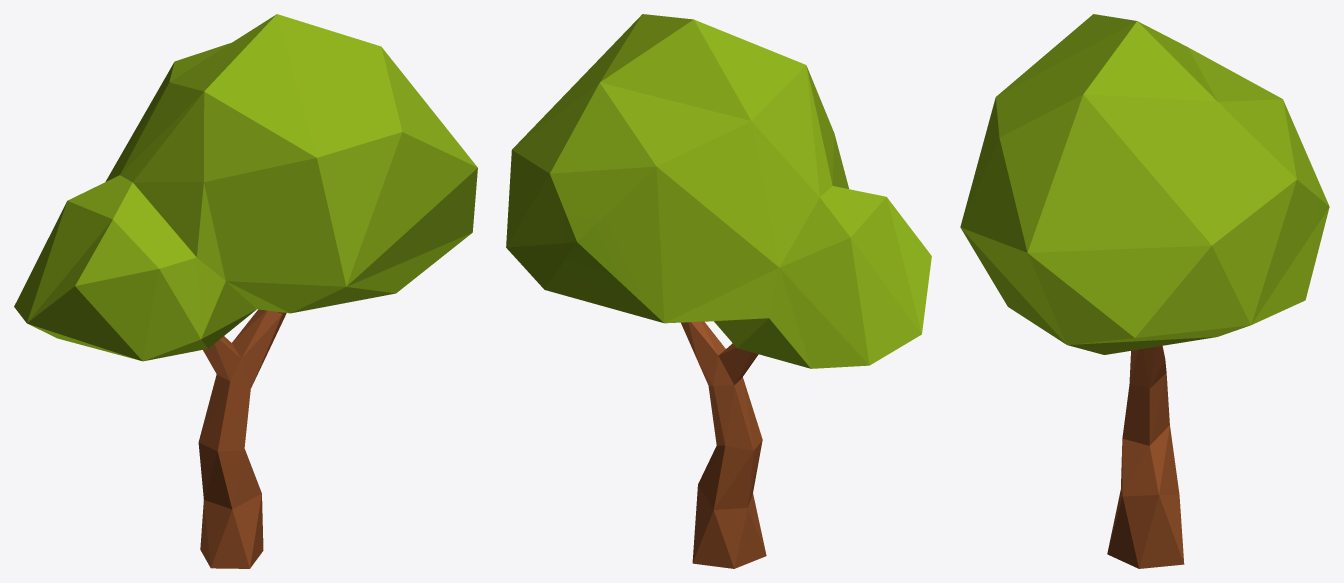
Rendered from tree_02.FBX.
3 views of the same model, side by side, from view 1: azimuth 30°, elevation 25°; view 2: azimuth 150°, elevation 25°; view 3: azimuth 270°, elevation 25° (orthographic). The views are drawn at different scales.
Parts seen in each view (by area): view 1: drzewo_02; view 2: drzewo_02; view 3: drzewo_02.
Boxes of the visible parts, x1=… form: drzewo_02: x1=14, y1=14, x2=477, y2=568; drzewo_02: x1=506, y1=14, x2=931, y2=568; drzewo_02: x1=960, y1=14, x2=1329, y2=568.
Size of the model in its own units: 105 by 127 by 76.52.
1 material, 1 textured.
